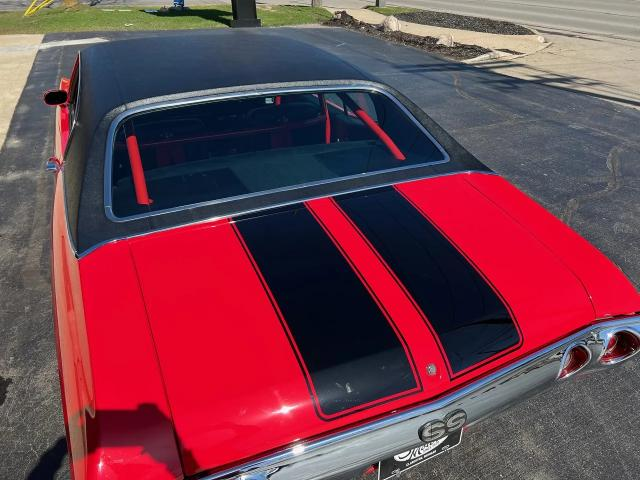chevelle-1972: (43, 29, 640, 480)
